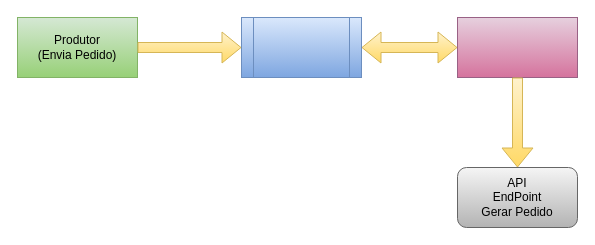
This 595x245 diagram has some shape labels left out. Here are the shapes that lost their labels. From the top down, the box of each, then its label:
(240, 16, 362, 78): Kafka MQ
(456, 16, 578, 78): Consumidor (Lê o pedido)
